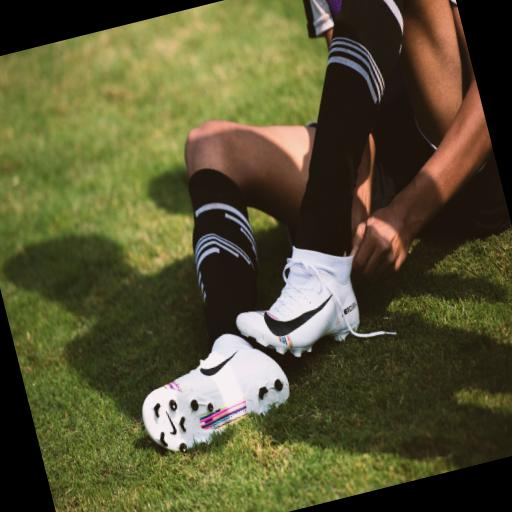shoe: (142, 338, 289, 451), (237, 248, 385, 356)
